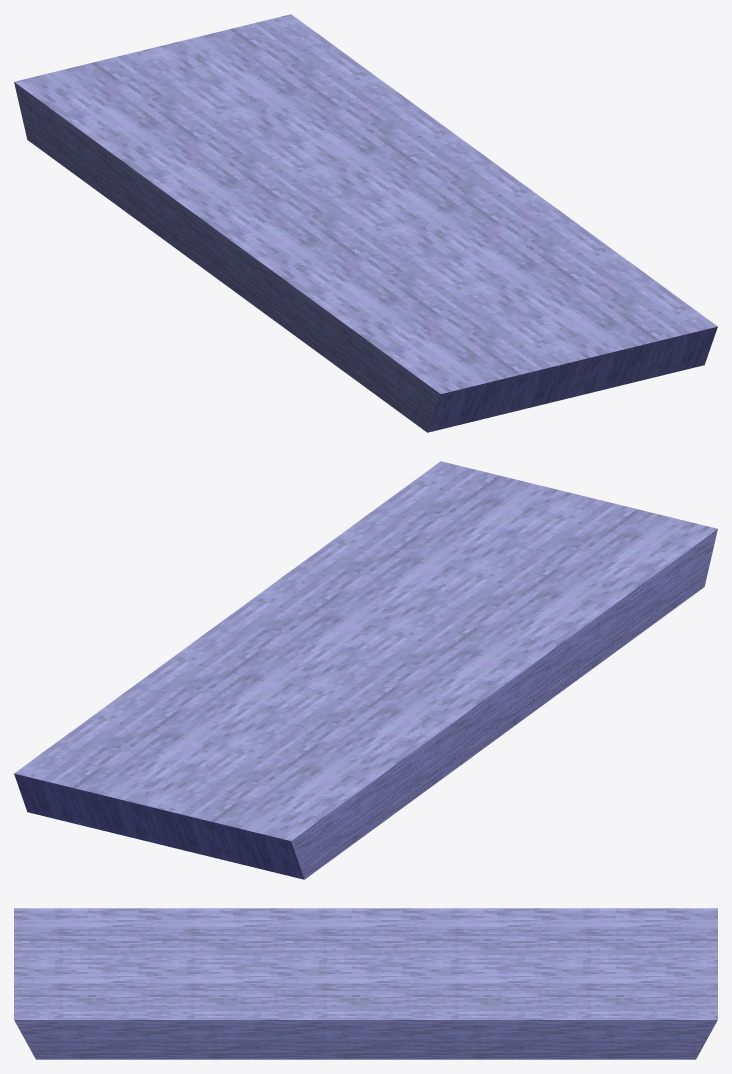
The model's file is km1_shiso.glb.
3 views of the same model, one above another, from view 1: azimuth 30°, elevation 25°; view 2: azimuth 150°, elevation 25°; view 3: azimuth 270°, elevation 25° (orthographic). The views are drawn at different scales.
Parts seen in each view (by area): view 1: km1_shiso; view 2: km1_shiso; view 3: km1_shiso.
Boxes of the visible parts, x1=… form: km1_shiso: x1=14, y1=14, x2=717, y2=432; km1_shiso: x1=14, y1=461, x2=717, y2=879; km1_shiso: x1=14, y1=908, x2=717, y2=1059.
Bounding box in the file's own units: 4.69 × 0.7812 × 12.5.
1 material, 1 textured.
